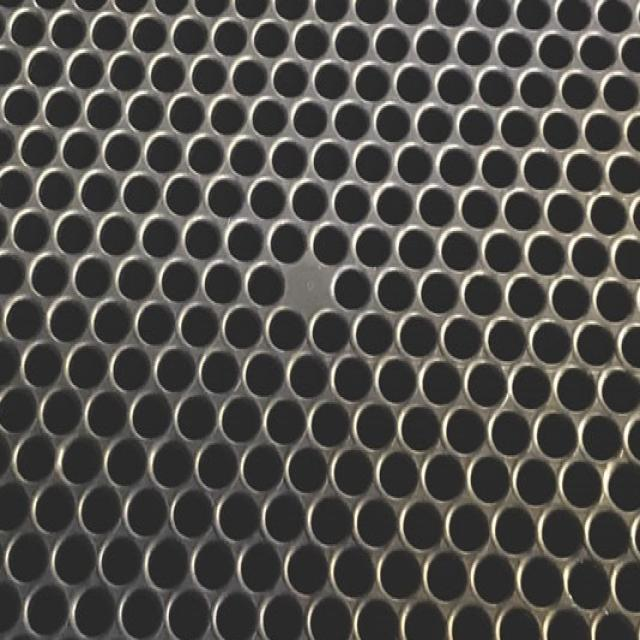Hole: (142, 531, 192, 592), (58, 433, 108, 492), (214, 487, 264, 545), (50, 530, 100, 588), (190, 534, 239, 593), (98, 531, 147, 590), (124, 481, 172, 541), (236, 538, 286, 595), (517, 552, 566, 610), (169, 484, 218, 542), (77, 481, 126, 539), (307, 493, 356, 550), (283, 540, 332, 597), (421, 547, 470, 604), (21, 584, 72, 638), (84, 386, 133, 442), (148, 436, 196, 493), (260, 489, 308, 546), (104, 433, 152, 490), (532, 408, 580, 464), (117, 584, 166, 638), (329, 446, 377, 501), (240, 441, 288, 496), (68, 584, 118, 636), (211, 587, 261, 639), (534, 506, 582, 560), (128, 388, 175, 443), (40, 384, 86, 440), (164, 586, 213, 638), (326, 546, 374, 599), (285, 443, 332, 497), (195, 440, 242, 494), (174, 391, 221, 445), (508, 360, 555, 414), (351, 494, 396, 550), (580, 508, 630, 558), (508, 457, 559, 506), (560, 560, 608, 612), (31, 481, 79, 533), (372, 450, 421, 500), (348, 400, 397, 450), (442, 501, 489, 553), (489, 503, 535, 556), (5, 528, 48, 584), (258, 590, 307, 639), (66, 341, 111, 394), (21, 338, 65, 392), (556, 459, 604, 508), (372, 548, 420, 597), (300, 592, 351, 638), (286, 350, 332, 401), (109, 343, 154, 395), (198, 346, 244, 396), (15, 434, 58, 487), (178, 302, 224, 351), (261, 398, 307, 446), (602, 459, 639, 518), (460, 361, 507, 407), (151, 344, 198, 390), (262, 306, 310, 351), (348, 594, 397, 638), (418, 450, 461, 500), (240, 349, 283, 399), (29, 251, 72, 301), (396, 500, 438, 551), (473, 551, 515, 602), (587, 193, 639, 234), (329, 356, 375, 402), (525, 320, 573, 364), (54, 209, 97, 258), (10, 207, 52, 257), (218, 306, 264, 351), (265, 219, 308, 267), (17, 124, 60, 172), (4, 295, 45, 345), (439, 407, 484, 452), (393, 311, 438, 356), (485, 408, 530, 453), (551, 368, 597, 412), (35, 167, 78, 214), (219, 395, 262, 442), (464, 454, 506, 502), (437, 315, 482, 359), (571, 322, 616, 366), (326, 265, 372, 308), (42, 296, 85, 342), (182, 216, 224, 263), (590, 279, 638, 320), (306, 399, 346, 448), (89, 298, 133, 342), (412, 183, 457, 226), (200, 260, 245, 303), (225, 218, 268, 263), (396, 406, 438, 452), (242, 264, 288, 306), (120, 171, 162, 217), (78, 170, 119, 217), (577, 412, 617, 460), (349, 138, 392, 182), (205, 175, 248, 219), (502, 274, 547, 316), (596, 367, 638, 412), (455, 186, 500, 228), (412, 102, 457, 144), (311, 308, 353, 353), (521, 231, 567, 272), (183, 135, 229, 176), (372, 358, 414, 402), (114, 256, 158, 298), (416, 358, 457, 403), (289, 179, 330, 224), (474, 67, 515, 112), (3, 83, 43, 129), (0, 383, 37, 432), (350, 313, 392, 356), (546, 277, 588, 320), (567, 232, 608, 276), (458, 274, 502, 315), (415, 272, 459, 313), (349, 224, 393, 265), (228, 135, 269, 179), (125, 91, 166, 135), (541, 192, 586, 232), (478, 231, 519, 274), (157, 260, 200, 301), (107, 51, 148, 94), (561, 152, 605, 192), (435, 230, 479, 270), (481, 315, 521, 359), (137, 218, 181, 258), (401, 600, 445, 640), (373, 265, 412, 310), (40, 89, 85, 128), (393, 228, 438, 267), (57, 130, 102, 169), (93, 214, 138, 253), (490, 604, 541, 638), (164, 90, 205, 132), (100, 130, 142, 171), (70, 255, 112, 296), (332, 100, 373, 142), (89, 11, 130, 53), (48, 10, 90, 51), (374, 101, 414, 144), (84, 89, 124, 132), (66, 48, 106, 91), (147, 53, 187, 96), (518, 149, 562, 188), (433, 67, 477, 106), (574, 31, 620, 68), (331, 181, 373, 221), (170, 16, 212, 56), (243, 178, 286, 217), (449, 602, 493, 640), (132, 301, 169, 346), (579, 111, 620, 151), (373, 185, 413, 226), (251, 19, 291, 60), (8, 8, 48, 49), (538, 108, 580, 147), (266, 139, 308, 178), (143, 132, 185, 171), (307, 222, 343, 267), (270, 58, 310, 98), (211, 18, 251, 58), (129, 14, 169, 54), (598, 72, 639, 111), (288, 101, 330, 139), (186, 57, 229, 94), (434, 147, 473, 187), (292, 21, 331, 61), (501, 188, 538, 230), (309, 56, 346, 98), (556, 72, 599, 108), (225, 58, 268, 94), (539, 608, 590, 638), (391, 65, 431, 103), (331, 22, 371, 60), (248, 98, 289, 135), (206, 98, 247, 135), (603, 150, 639, 192), (393, 144, 433, 181), (349, 62, 389, 99), (533, 31, 574, 67), (312, 138, 348, 179), (165, 174, 201, 215), (412, 26, 454, 61), (481, 150, 519, 188), (452, 26, 489, 65), (23, 48, 63, 84), (613, 558, 639, 612), (496, 29, 532, 68), (608, 233, 638, 279), (502, 110, 538, 148), (454, 104, 486, 146), (375, 26, 411, 62), (611, 322, 639, 368), (595, 1, 634, 34), (433, 0, 473, 29), (514, 0, 554, 29), (556, 0, 592, 31), (618, 416, 639, 469), (352, 0, 393, 24), (312, 0, 351, 22), (476, 0, 509, 25), (271, 0, 310, 19), (622, 111, 639, 154)
